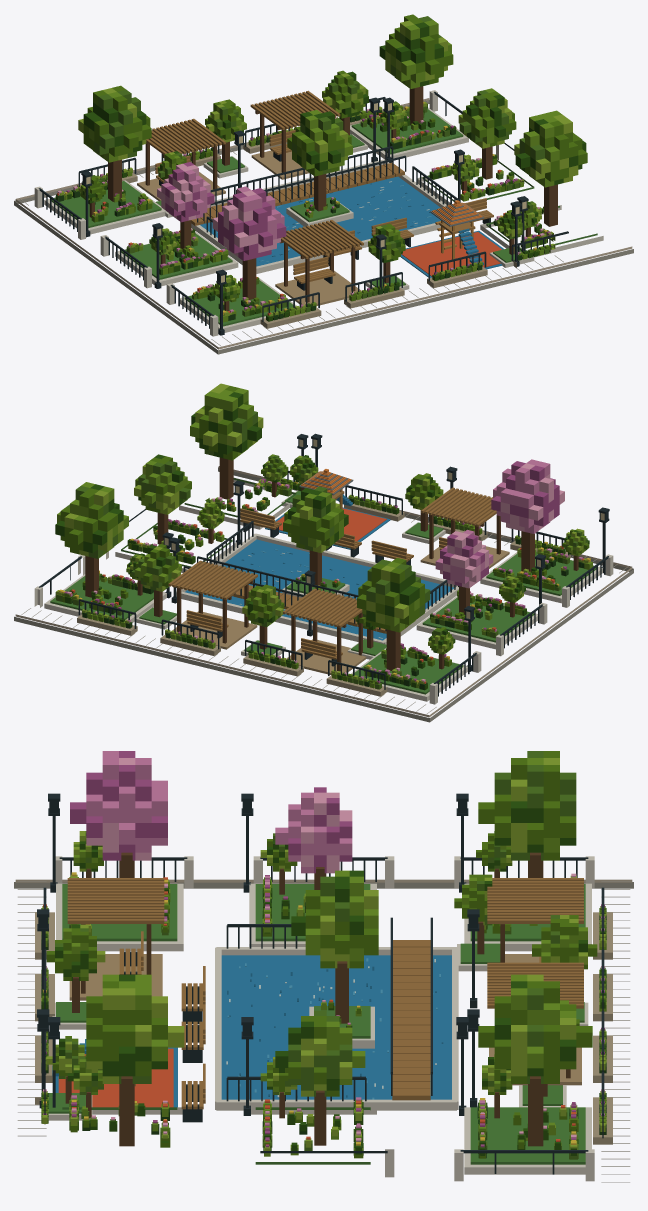
The model's file is SM_StreetFrontage_019.fbx.
3 views of the same model, one above another, from view 1: azimuth 30°, elevation 25°; view 2: azimuth 150°, elevation 25°; view 3: azimuth 270°, elevation 25° (orthographic). The views are drawn at different scales.
Visible parts, largest first — view 1: SM_StreetFrontage_019; view 2: SM_StreetFrontage_019; view 3: SM_StreetFrontage_019.
Part boxes in pixels (x1,y1,x2,y2): SM_StreetFrontage_019: (14, 14, 633, 354); SM_StreetFrontage_019: (14, 383, 633, 722); SM_StreetFrontage_019: (14, 751, 633, 1182).
Bounding box in the file's own units: 80 × 68 × 21.55.
